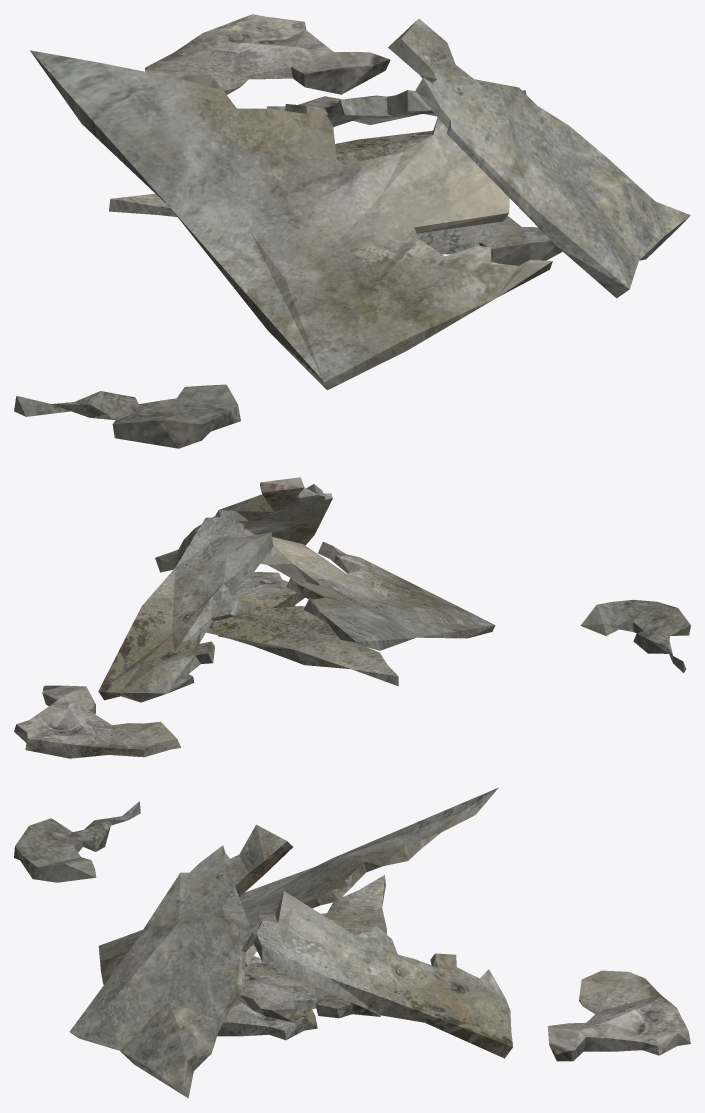
The model's file is rubble1.glb.
The picture shows the model from 3 angles, top to bottom: view 1: azimuth 30°, elevation 25°; view 2: azimuth 150°, elevation 25°; view 3: azimuth 270°, elevation 25°; orthographic projection. The views are drawn at different scales.
Parts seen in each view (by area): view 1: RUBBLE1; view 2: RUBBLE1; view 3: RUBBLE1.
Boxes of the visible parts, x1,y1,x2,y2 form: RUBBLE1: [14, 14, 690, 448]; RUBBLE1: [14, 477, 690, 758]; RUBBLE1: [14, 787, 690, 1098].
Bounding box in the file's own units: 3.09 × 1.01 × 3.13.
Materials: 1 (1 with a texture image).
